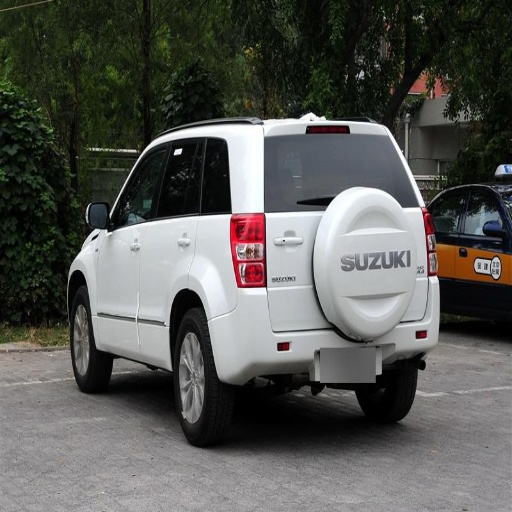back_bumper: (210, 279, 432, 381)
back_glass: (288, 133, 416, 205)
back_left_door: (142, 135, 230, 356)
tailgate: (309, 242, 421, 333), (336, 192, 395, 235)
trunk: (237, 210, 423, 338), (193, 228, 218, 314)
